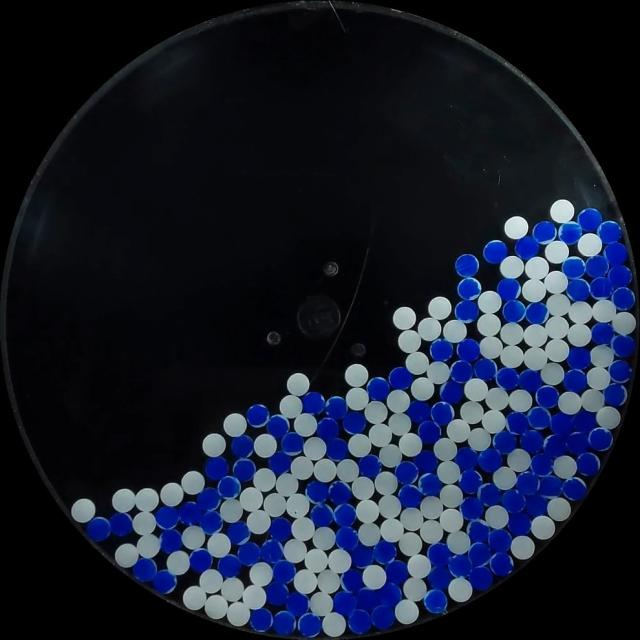pmmma-blanca: (283, 493, 311, 519), (394, 598, 420, 624), (379, 517, 405, 542), (294, 568, 319, 594), (407, 554, 432, 580), (133, 510, 158, 536), (115, 542, 140, 568), (218, 499, 244, 524), (240, 486, 265, 511), (356, 499, 381, 524), (322, 611, 347, 636), (439, 508, 464, 533), (362, 564, 387, 589), (580, 388, 605, 413), (202, 432, 227, 457), (420, 518, 445, 543), (305, 548, 330, 573), (310, 591, 335, 616), (243, 584, 268, 609), (72, 498, 97, 523), (137, 533, 162, 558), (446, 530, 471, 555), (397, 531, 422, 556), (460, 400, 486, 424), (566, 322, 592, 346), (404, 351, 430, 375), (522, 277, 548, 301), (227, 600, 251, 626), (546, 292, 570, 318), (334, 458, 360, 482), (262, 492, 286, 518), (328, 548, 352, 574), (433, 438, 458, 462), (205, 594, 229, 619), (221, 577, 245, 602), (399, 432, 423, 457), (403, 577, 428, 601), (292, 516, 316, 541), (464, 378, 489, 402), (531, 516, 556, 540), (477, 290, 502, 314), (544, 270, 569, 294), (224, 412, 248, 437), (511, 535, 536, 559), (166, 550, 191, 574), (448, 578, 473, 602), (183, 585, 207, 610), (500, 322, 525, 346), (553, 454, 578, 478), (568, 301, 593, 325), (467, 427, 492, 451), (500, 345, 525, 369), (523, 346, 548, 370), (160, 482, 185, 506), (550, 199, 575, 223), (596, 406, 621, 430), (547, 497, 572, 521), (112, 488, 137, 512), (135, 488, 160, 512), (134, 488, 159, 512), (356, 523, 380, 548), (284, 539, 308, 564), (207, 533, 231, 558), (410, 377, 436, 400), (503, 217, 529, 240), (200, 568, 223, 594), (439, 484, 462, 510), (316, 570, 342, 593), (374, 472, 398, 496), (291, 455, 315, 479), (578, 232, 602, 256), (587, 366, 611, 390), (482, 409, 506, 433), (428, 296, 452, 320), (400, 508, 424, 532), (364, 401, 388, 425), (493, 466, 517, 490), (346, 387, 370, 411), (507, 448, 531, 472), (250, 562, 274, 586), (477, 313, 501, 337), (592, 299, 616, 323), (545, 240, 569, 264), (418, 317, 442, 341), (447, 418, 471, 442), (612, 311, 636, 335), (344, 363, 368, 387), (182, 470, 206, 494), (182, 526, 206, 550), (437, 461, 461, 485), (484, 505, 508, 529), (312, 526, 336, 550), (479, 336, 504, 359), (540, 362, 565, 385), (524, 257, 549, 280), (253, 434, 278, 457), (524, 324, 548, 347), (294, 413, 318, 436), (545, 338, 569, 361), (393, 306, 416, 330), (500, 255, 524, 278), (486, 387, 510, 410), (378, 444, 401, 468), (302, 437, 326, 460), (276, 472, 299, 496), (253, 468, 276, 492), (443, 320, 468, 342), (397, 330, 422, 352), (589, 345, 614, 367), (280, 395, 303, 418), (378, 496, 401, 519), (352, 477, 375, 500), (288, 372, 310, 396), (558, 392, 582, 414), (546, 316, 568, 340), (427, 362, 451, 384), (389, 412, 411, 436), (419, 496, 441, 520), (509, 389, 532, 411), (369, 424, 392, 446), (386, 391, 410, 412), (314, 458, 334, 483), (247, 510, 269, 532), (349, 435, 370, 457)
